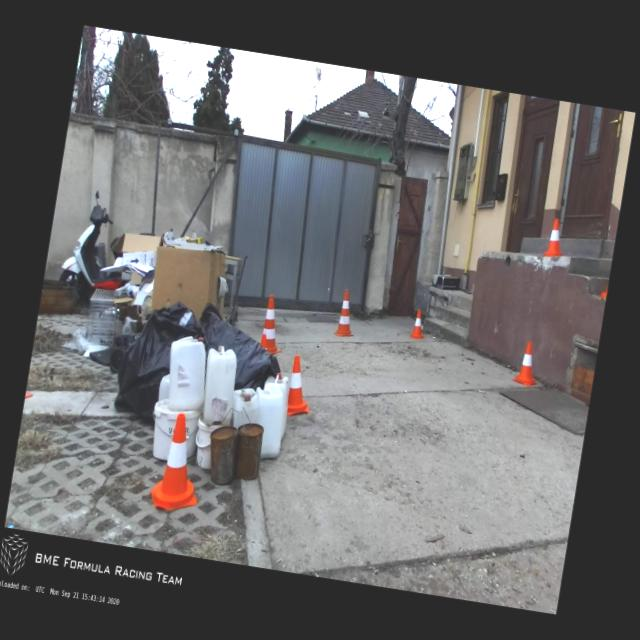large_orange_cone: (259, 294, 289, 356), (334, 288, 361, 338)
orange_cone: (148, 411, 210, 516), (282, 354, 316, 420), (512, 341, 541, 386), (544, 219, 568, 259), (409, 308, 427, 341)
